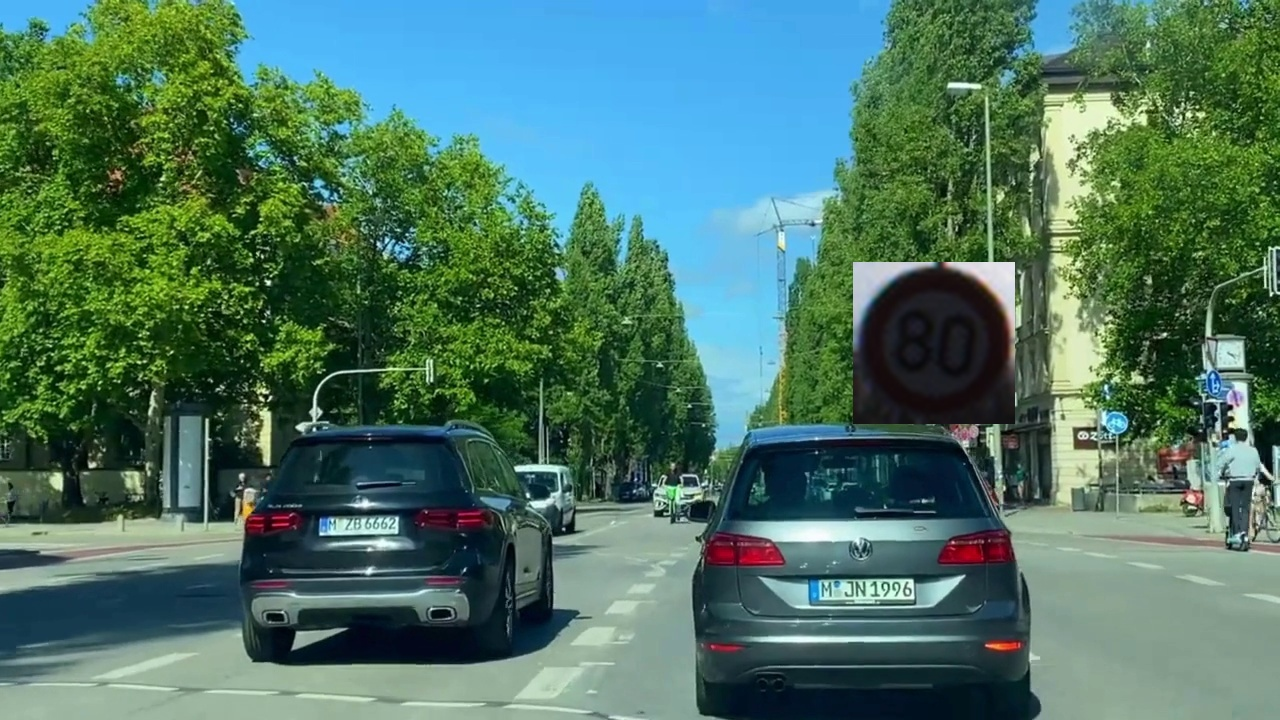Speed 80: (853, 262, 1015, 424)
